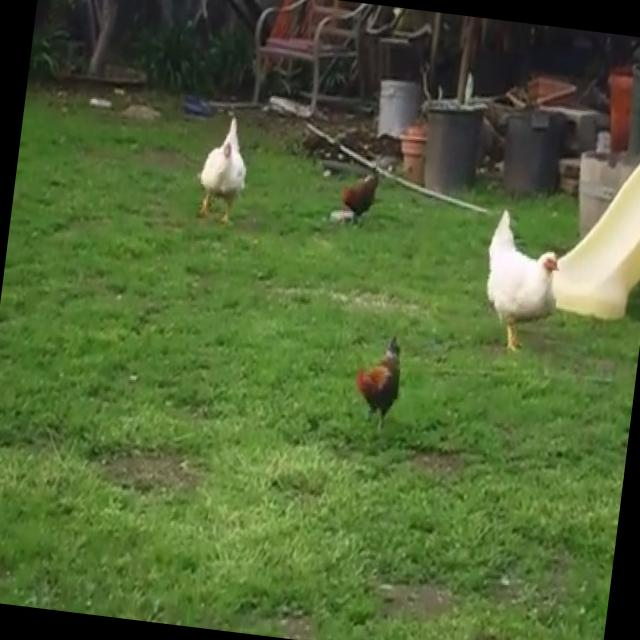feeding: (330, 152, 380, 240)
running: (346, 328, 414, 441), (191, 106, 255, 222)
walking: (472, 197, 576, 351)
